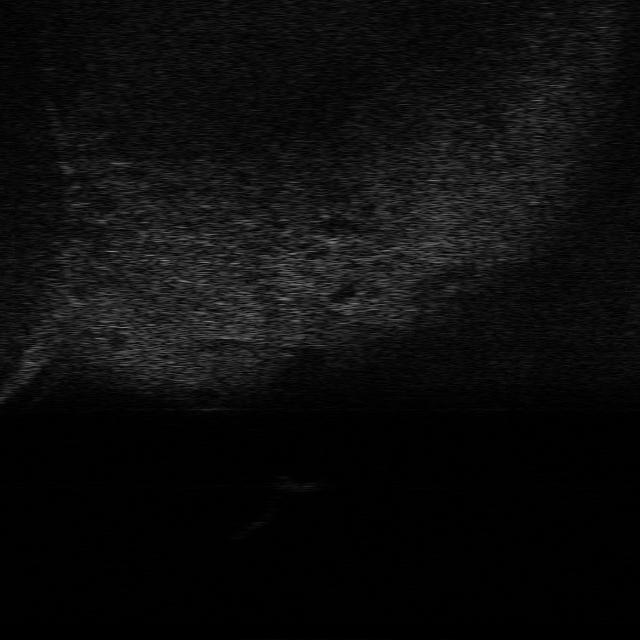cube: (268, 472, 328, 494)
